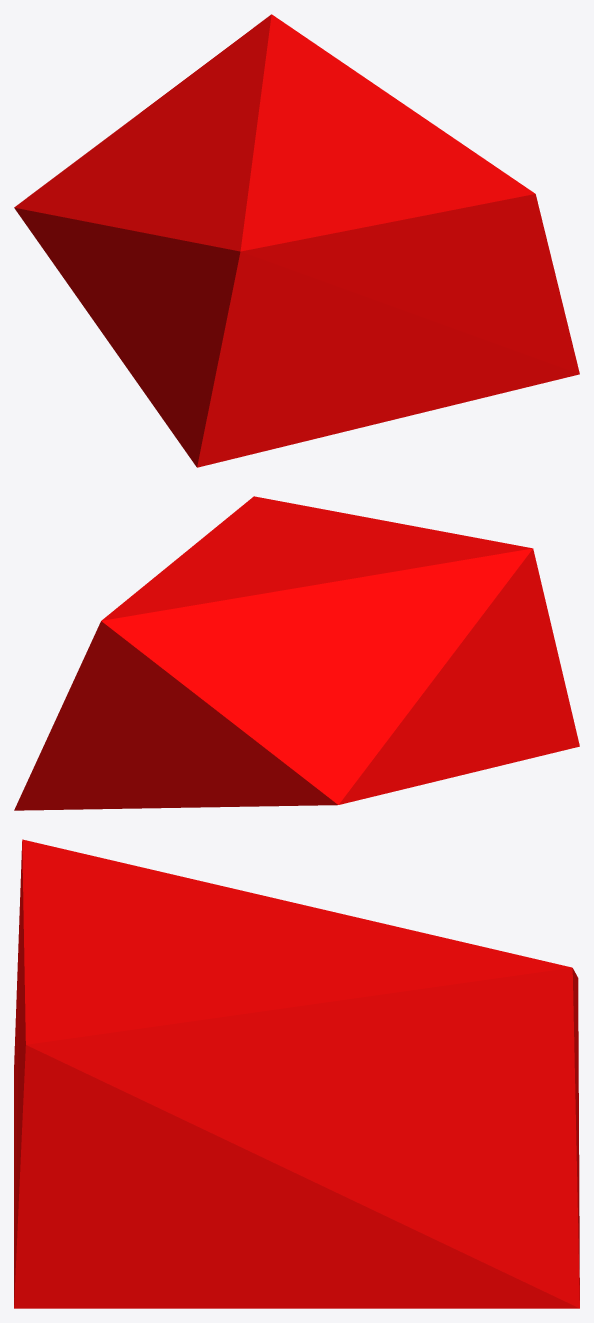
Rendered from torso_1_mock_agx_orin_1.glb.
3 views of the same model, one above another, from view 1: azimuth 30°, elevation 25°; view 2: azimuth 150°, elevation 25°; view 3: azimuth 270°, elevation 25° (orthographic). The views are drawn at different scales.
Visible parts, largest first — view 1: torso_1_mock_agx_orin_1.obj; view 2: torso_1_mock_agx_orin_1.obj; view 3: torso_1_mock_agx_orin_1.obj.
Part boxes in pixels (box(x1,y1,x2,y2)): torso_1_mock_agx_orin_1.obj: box(14, 14, 579, 467); torso_1_mock_agx_orin_1.obj: box(14, 496, 579, 810); torso_1_mock_agx_orin_1.obj: box(14, 839, 579, 1308).
Size of the model in its own units: 0.11 by 0.061 by 0.11.
